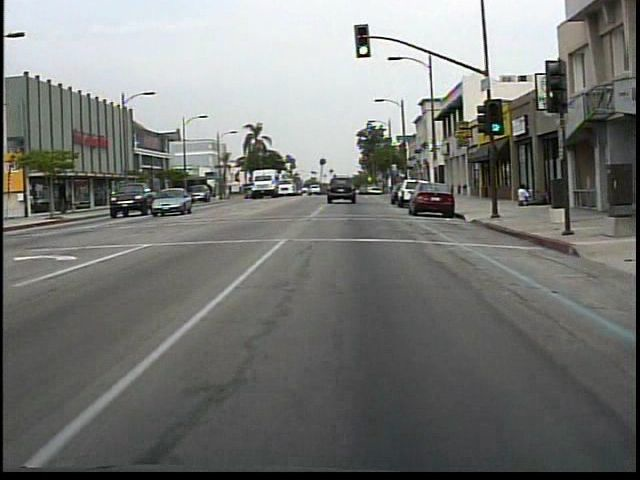person: (512, 184, 530, 208)
